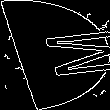M_W: (7, 27, 103, 83)
